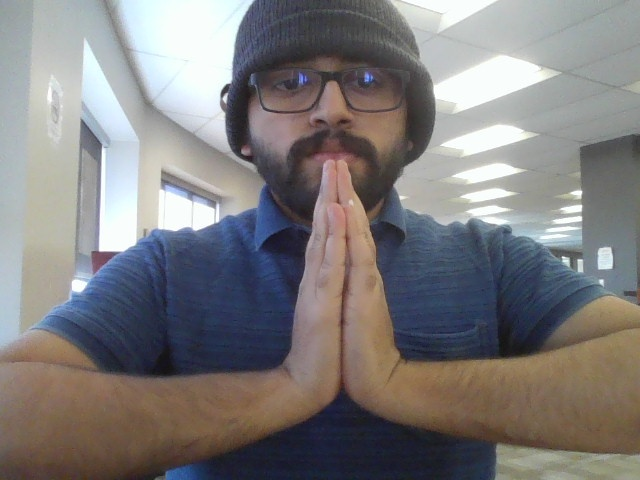start: (268, 147, 427, 442)
